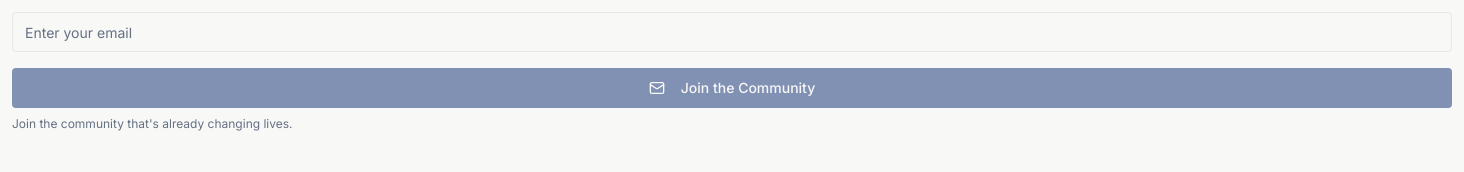
Scenario: WaitlistForm › handles API errors
Type "test@example.com" into the field with placeholder "Enter your email" at (732, 32), box [12,12,1452,52]
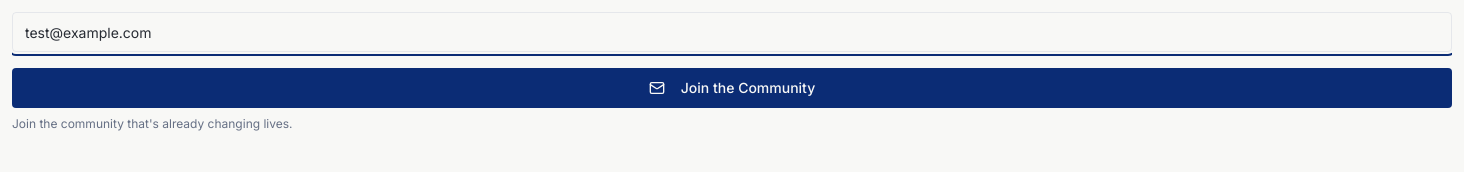
Click the button "Join the Community" at (732, 88), box [12,68,1452,108]
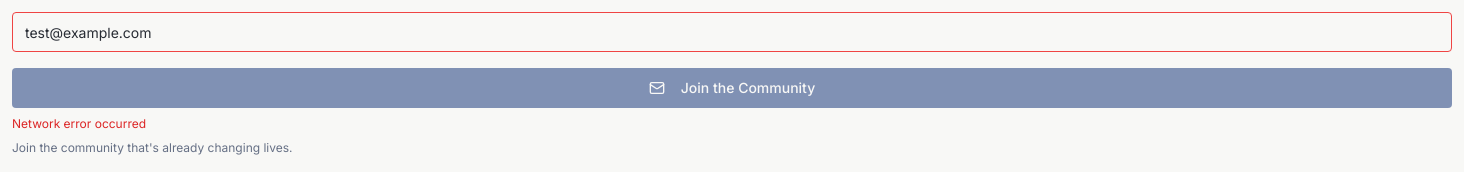
Now the text "Network error occurred" is shown, box [12,116,146,131]
